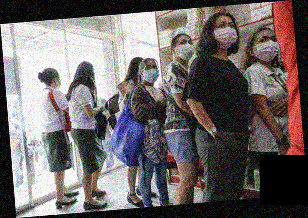with_mask: (252, 33, 280, 63), (212, 20, 239, 51), (176, 38, 195, 61), (142, 63, 160, 84), (53, 75, 62, 91)
